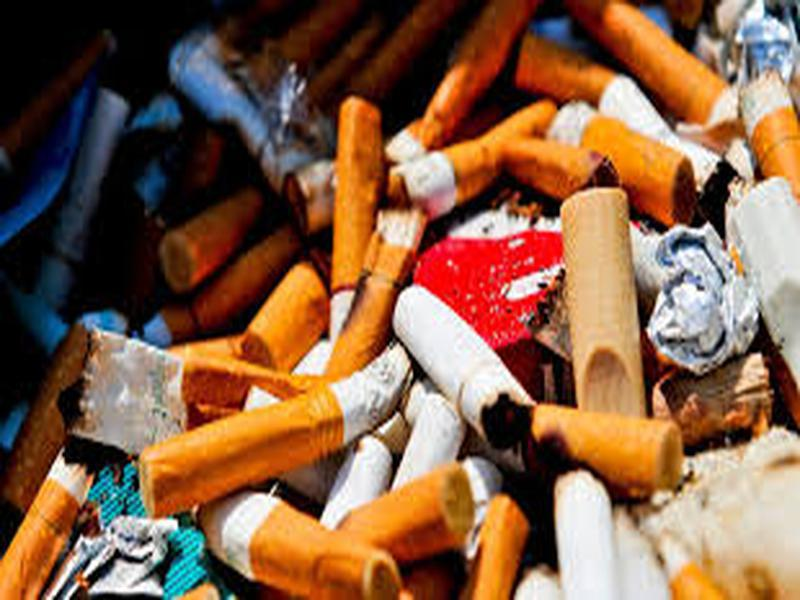burned_cigarette: (135, 336, 413, 521), (387, 284, 544, 451), (197, 490, 408, 600), (527, 392, 687, 499), (479, 114, 622, 204), (721, 66, 800, 199)
paper: (638, 216, 771, 379)
